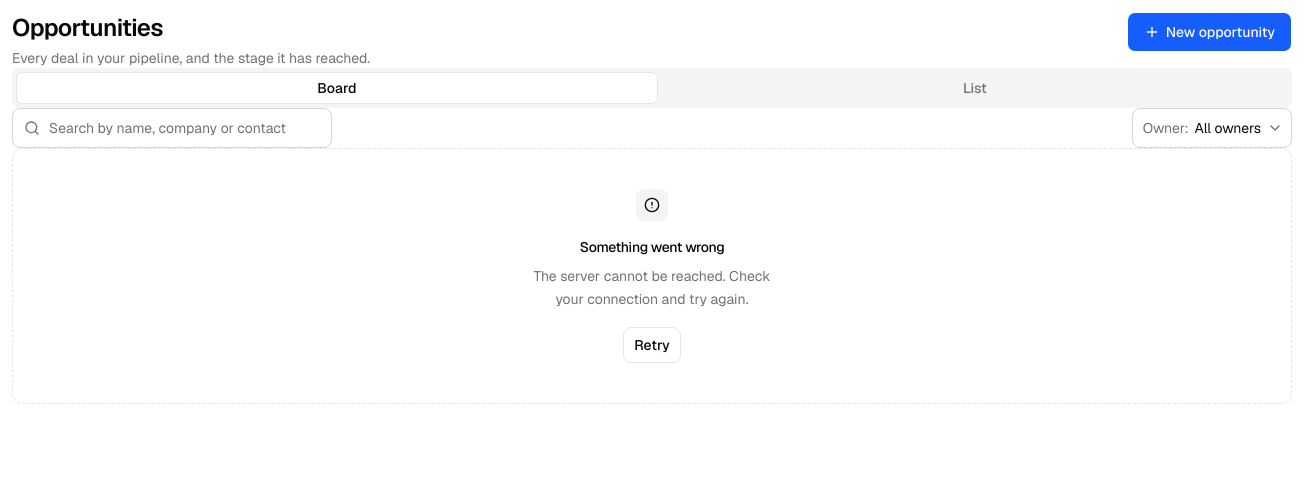
it: OpportunityBoard › explains a failed load and tries again
The width and height of the screenshot is (1304, 497).
Expected: the message shows "The server cannot be reached.", [534,267,770,308]
Click the button "Retry" at [652, 344], box [623,326,681,362]
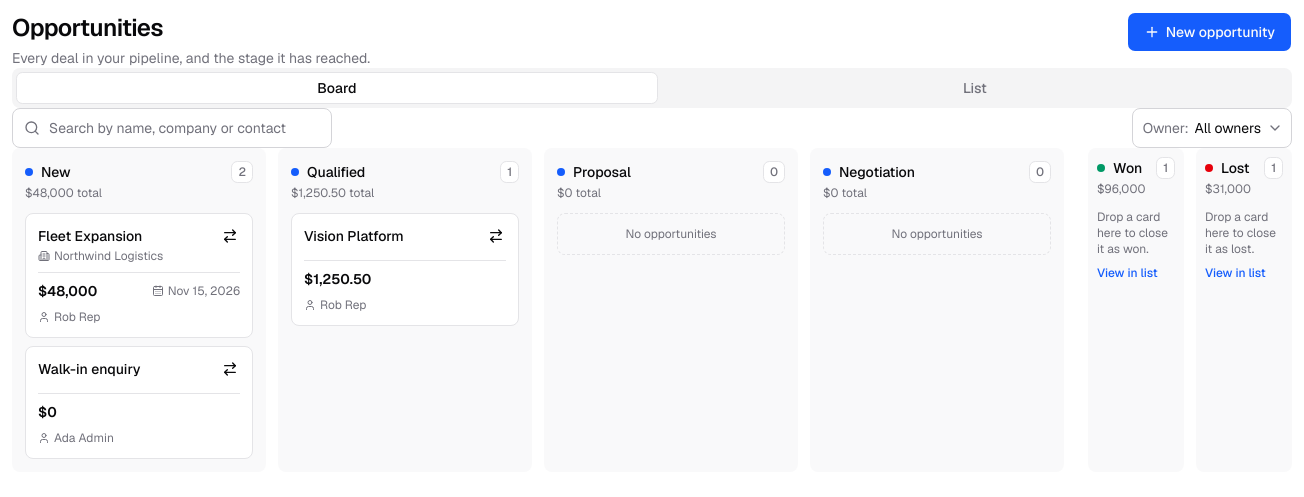
Now the element named "Pipeline board" is shown
